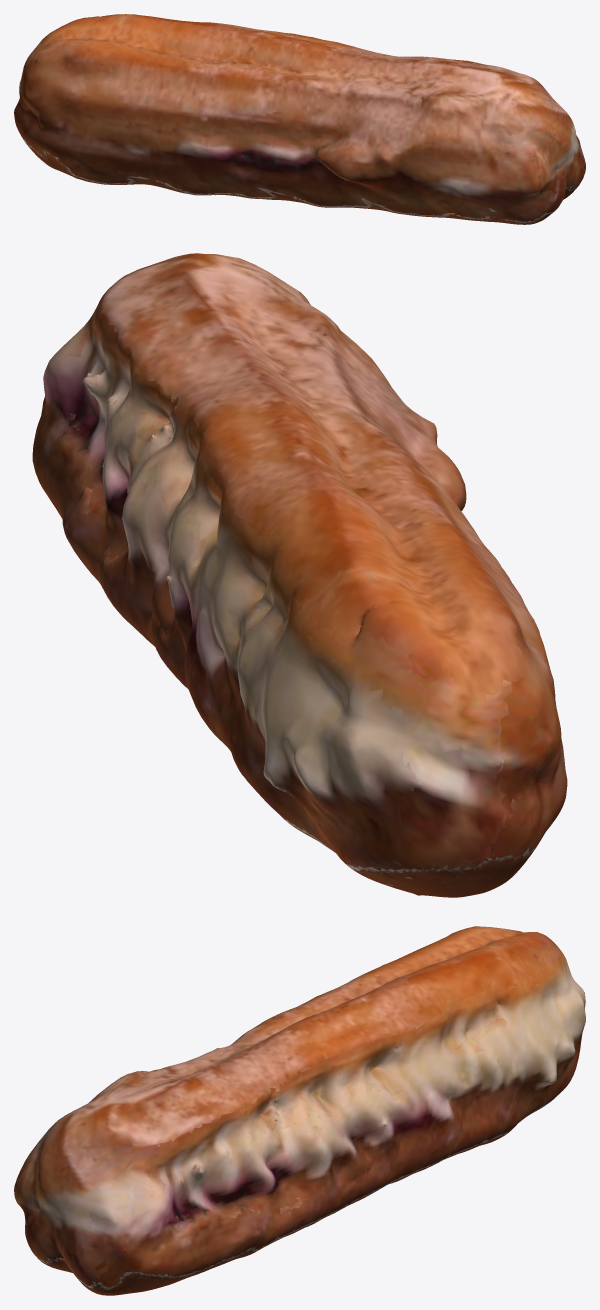
The model's file is eclaire_23442.obj.
3 renders of one model, top to bottom at view 1: azimuth 30°, elevation 25°; view 2: azimuth 150°, elevation 25°; view 3: azimuth 270°, elevation 25°, orthographic. The views are drawn at different scales.
Size of the model in its own units: 93.83 by 31.6 by 91.28.
1 material, 1 textured.
